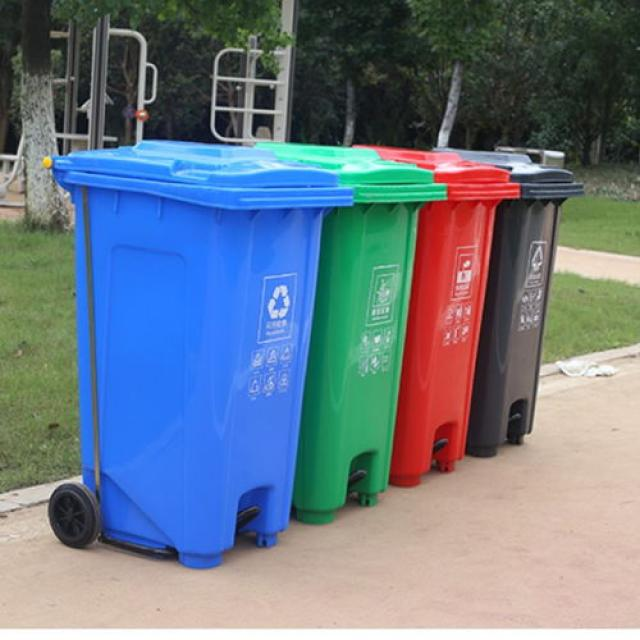garbage_bin: (40, 140, 352, 567), (254, 141, 446, 525), (353, 143, 520, 485), (430, 146, 582, 456)
